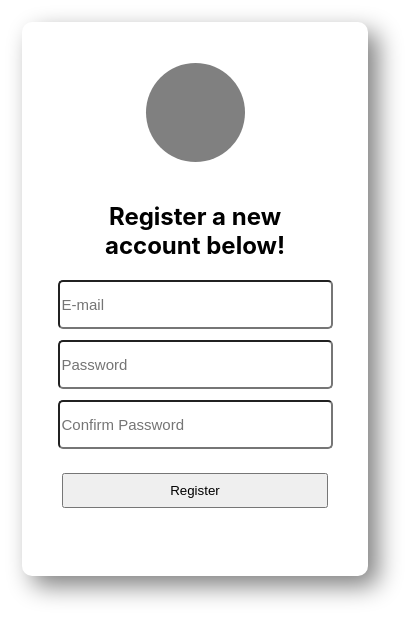
Scenario: Register component functionality › Rejects improperly formatted E-mail
Type "JohnDoeJDmail.com" into the field with test id "email" at (196, 305), box [58,280,333,329]
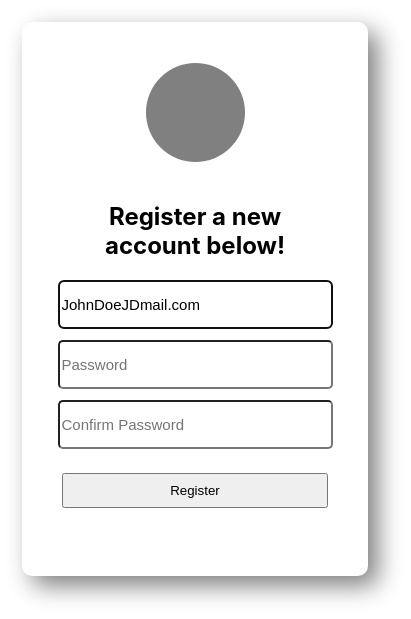
Type "123456" into the field with test id "password" at (196, 365), box [58,340,333,389]
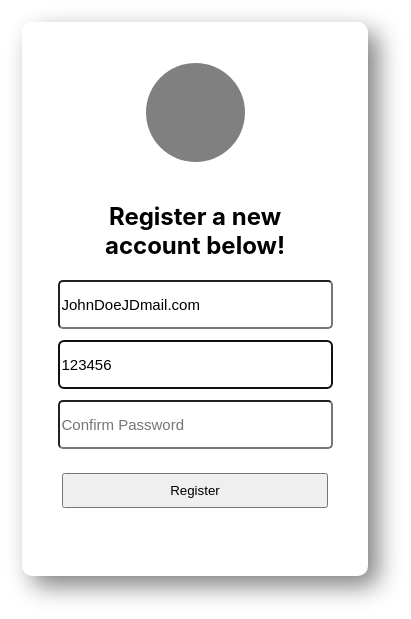
Type "123456" into the field with test id "confirmpassword" at (196, 425), box [58,400,333,449]
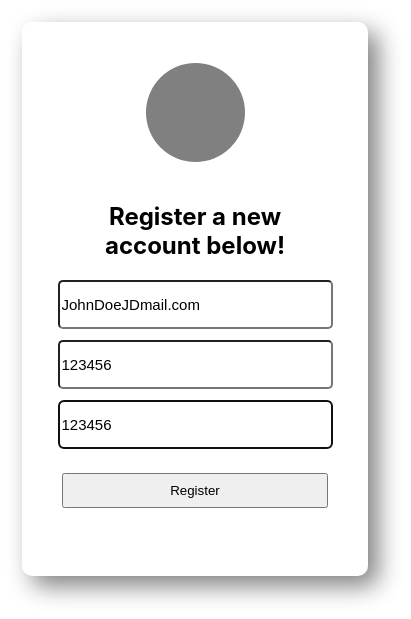
Click the button with test id "register-button" at (195, 491), box [62,473,328,508]
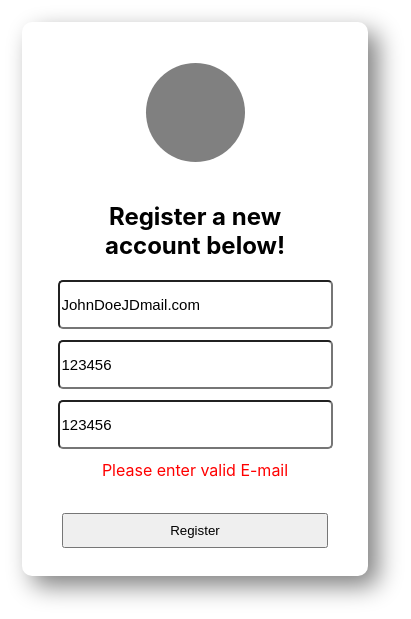
Now the text "Please enter valid E-mail" is shown, box [102,460,288,480]
